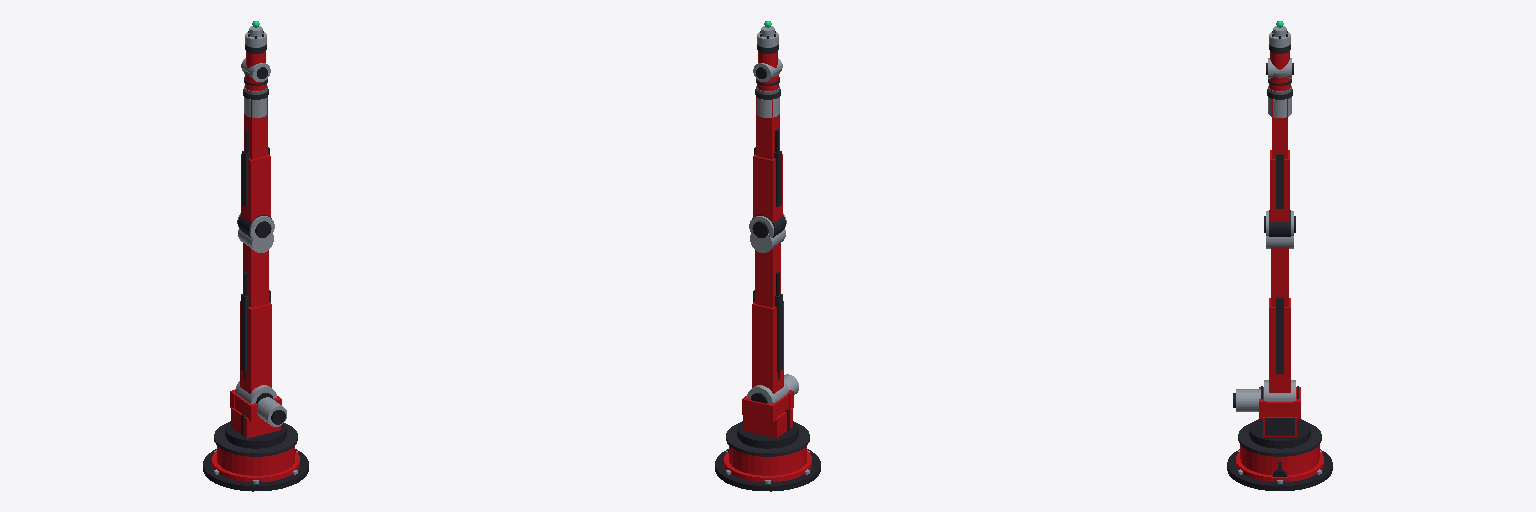
URDF robot description (abb_irb1200):
<?xml version="1.0" encoding="utf-8"?>
<robot name="abb_irb1200">
  <!-- ABB IRB 1200 — procedurally generated by orolp.robot_library.urdf_builder (payload 7 kg, reach 1200 mm, 6 DOF, repeatability ±0.02 mm). Appearance: 60 primitives in 'industrial' style (primary/accent/metal/dark 4-role palette). No vendor CAD assets. Parameters verified=False. -->
  <link name="base_link">
    <visual>
      <origin xyz="0 0 0.00864" rpy="0 0 0"/>
      <geometry>
        <cylinder radius="0.155501" length="0.01728"/>
      </geometry>
      <material name="base_link_mat_0">
        <color rgba="0.17 0.17 0.204 1"/>
      </material>
    </visual>
    <visual>
      <origin xyz="0 0 0.02484" rpy="0 0 0"/>
      <geometry>
        <cylinder radius="0.129971" length="0.01512"/>
      </geometry>
      <material name="base_link_mat_1">
        <color rgba="0.8 0.11 0.14 1"/>
      </material>
    </visual>
    <visual>
      <origin xyz="0 0 0.06588" rpy="0 0 0"/>
      <geometry>
        <cylinder radius="0.116046" length="0.06696"/>
      </geometry>
      <material name="base_link_mat_2">
        <color rgba="0.8 0.11 0.14 1"/>
      </material>
    </visual>
    <visual>
      <origin xyz="0 0 0.1026" rpy="0 0 0"/>
      <geometry>
        <cylinder radius="0.123008" length="0.0108"/>
      </geometry>
      <material name="base_link_mat_3">
        <color rgba="0.2 0.2 0.24 1"/>
      </material>
    </visual>
    <visual>
      <origin xyz="0.104441 0 0.06696" rpy="0 0 0"/>
      <geometry>
        <box size="0.060344 0.013925 0.02808"/>
      </geometry>
      <material name="base_link_mat_4">
        <color rgba="0.2 0.2 0.24 1"/>
      </material>
    </visual>
    <visual>
      <origin xyz="0.106762 0 0.0324" rpy="0 1.570796 0"/>
      <geometry>
        <cylinder radius="0.019728" length="0.034814"/>
      </geometry>
      <material name="base_link_mat_5">
        <color rgba="0.17 0.17 0.204 1"/>
      </material>
    </visual>
    <visual>
      <origin xyz="0.132292 0 0.01404" rpy="0 0 0"/>
      <geometry>
        <cylinder radius="0.008703" length="0.02376"/>
      </geometry>
      <material name="base_link_mat_6">
        <color rgba="0.6 0.63 0.67 1"/>
      </material>
    </visual>
    <visual>
      <origin xyz="0.066146 0.114568 0.01404" rpy="0 0 0"/>
      <geometry>
        <cylinder radius="0.008703" length="0.02376"/>
      </geometry>
      <material name="base_link_mat_7">
        <color rgba="0.6 0.63 0.67 1"/>
      </material>
    </visual>
    <visual>
      <origin xyz="-0.066146 0.114568 0.01404" rpy="0 0 0"/>
      <geometry>
        <cylinder radius="0.008703" length="0.02376"/>
      </geometry>
      <material name="base_link_mat_8">
        <color rgba="0.6 0.63 0.67 1"/>
      </material>
    </visual>
    <visual>
      <origin xyz="-0.132292 0 0.01404" rpy="0 0 0"/>
      <geometry>
        <cylinder radius="0.008703" length="0.02376"/>
      </geometry>
      <material name="base_link_mat_9">
        <color rgba="0.6 0.63 0.67 1"/>
      </material>
    </visual>
    <visual>
      <origin xyz="-0.066146 -0.114568 0.01404" rpy="0 0 0"/>
      <geometry>
        <cylinder radius="0.008703" length="0.02376"/>
      </geometry>
      <material name="base_link_mat_10">
        <color rgba="0.6 0.63 0.67 1"/>
      </material>
    </visual>
    <visual>
      <origin xyz="0.066146 -0.114568 0.01404" rpy="0 0 0"/>
      <geometry>
        <cylinder radius="0.008703" length="0.02376"/>
      </geometry>
      <material name="base_link_mat_11">
        <color rgba="0.6 0.63 0.67 1"/>
      </material>
    </visual>
    <collision>
      <origin xyz="0 0 0.054" rpy="0 0 0"/>
      <geometry>
        <cylinder radius="0.116046" length="0.108"/>
      </geometry>
    </collision>
  </link>
  <joint name="joint_1" type="revolute">
    <parent link="base_link"/>
    <child link="link_1"/>
    <origin xyz="0 0 0.108" rpy="0 0 0"/>
    <axis xyz="0 0 1"/>
    <limit lower="-3.141593" upper="3.141593" effort="82" velocity="4.363323"/>
  </joint>
  <link name="link_1">
    <visual>
      <origin xyz="0 0 0.011979" rpy="0 0 0"/>
      <geometry>
        <cylinder radius="0.089842" length="0.023958"/>
      </geometry>
      <material name="link_1_mat_0">
        <color rgba="0.17 0.17 0.204 1"/>
      </material>
    </visual>
    <visual>
      <origin xyz="0 0 0.054318" rpy="0 0 0"/>
      <geometry>
        <box size="0.1138 0.097329 0.06072"/>
      </geometry>
      <material name="link_1_mat_1">
        <color rgba="0.8 0.11 0.14 1"/>
      </material>
    </visual>
    <visual>
      <origin xyz="0 0 0.107118" rpy="0 0 0"/>
      <geometry>
        <box size="0.100323 0.083852 0.04488"/>
      </geometry>
      <material name="link_1_mat_2">
        <color rgba="0.8 0.11 0.14 1"/>
      </material>
    </visual>
    <visual>
      <origin xyz="0 0.049413 0.1056" rpy="0 0 0"/>
      <geometry>
        <box size="0.104815 0.025455 0.0528"/>
      </geometry>
      <material name="link_1_mat_3">
        <color rgba="0.8 0.11 0.14 1"/>
      </material>
    </visual>
    <visual>
      <origin xyz="0 -0.049413 0.1056" rpy="0 0 0"/>
      <geometry>
        <box size="0.104815 0.025455 0.0528"/>
      </geometry>
      <material name="link_1_mat_4">
        <color rgba="0.8 0.11 0.14 1"/>
      </material>
    </visual>
    <visual>
      <origin xyz="0 -0.088344 0.11352" rpy="1.570796 0 0"/>
      <geometry>
        <cylinder radius="0.032942" length="0.078612"/>
      </geometry>
      <material name="link_1_mat_5">
        <color rgba="0.6 0.63 0.67 1"/>
      </material>
    </visual>
    <visual>
      <origin xyz="0 -0.131768 0.11352" rpy="1.570796 0 0"/>
      <geometry>
        <cylinder radius="0.02246" length="0.011979"/>
      </geometry>
      <material name="link_1_mat_6">
        <color rgba="0.17 0.17 0.204 1"/>
      </material>
    </visual>
    <visual>
      <origin xyz="-0.052408 -0.020963 0.05544" rpy="0 0 0"/>
      <geometry>
        <cylinder radius="0.008235" length="0.066"/>
      </geometry>
      <material name="link_1_mat_7">
        <color rgba="0.17 0.17 0.204 1"/>
      </material>
    </visual>
    <visual>
      <origin xyz="0.053905 0 0.05544" rpy="0 0 0"/>
      <geometry>
        <box size="0.007487 0.086847 0.05808"/>
      </geometry>
      <material name="link_1_mat_8">
        <color rgba="0.2 0.2 0.24 1"/>
      </material>
    </visual>
    <collision>
      <origin xyz="0 0 0.066" rpy="0 0 0"/>
      <geometry>
        <cylinder radius="0.089842" length="0.132"/>
      </geometry>
    </collision>
  </link>
  <joint name="joint_2" type="revolute">
    <parent link="link_1"/>
    <child link="link_2"/>
    <origin xyz="0 0 0.132" rpy="0 0 0"/>
    <axis xyz="0 1 0"/>
    <limit lower="-1.919862" upper="1.919862" effort="82" velocity="4.363323"/>
  </joint>
  <link name="link_2">
    <visual>
      <origin xyz="0 0 0.14904" rpy="0 0 0"/>
      <geometry>
        <box size="0.073371 0.062889 0.29808"/>
      </geometry>
      <material name="link_2_mat_0">
        <color rgba="0.8 0.11 0.14 1"/>
      </material>
    </visual>
    <visual>
      <origin xyz="0 0 0.414" rpy="0 0 0"/>
      <geometry>
        <box size="0.059894 0.05091 0.276"/>
      </geometry>
      <material name="link_2_mat_1">
        <color rgba="0.8 0.11 0.14 1"/>
      </material>
    </visual>
    <visual>
      <origin xyz="0 0 0.20976" rpy="0 0 0"/>
      <geometry>
        <box size="0.086847 0.02246 0.24288"/>
      </geometry>
      <material name="link_2_mat_2">
        <color rgba="0.2 0.2 0.24 1"/>
      </material>
    </visual>
    <visual>
      <origin xyz="0 0 0" rpy="1.570796 0 0"/>
      <geometry>
        <cylinder radius="0.043424" length="0.095831"/>
      </geometry>
      <material name="link_2_mat_3">
        <color rgba="0.6 0.63 0.67 1"/>
      </material>
    </visual>
    <visual>
      <origin xyz="0 0.052408 0" rpy="1.570796 0 0"/>
      <geometry>
        <cylinder radius="0.026953" length="0.007487"/>
      </geometry>
      <material name="link_2_mat_4">
        <color rgba="0.17 0.17 0.204 1"/>
      </material>
    </visual>
    <visual>
      <origin xyz="0 -0.052408 0" rpy="1.570796 0 0"/>
      <geometry>
        <cylinder radius="0.026953" length="0.007487"/>
      </geometry>
      <material name="link_2_mat_5">
        <color rgba="0.17 0.17 0.204 1"/>
      </material>
    </visual>
    <visual>
      <origin xyz="0 0 -0.039744" rpy="0 0 0"/>
      <geometry>
        <box size="0.080858 0.067381 0.0828"/>
      </geometry>
      <material name="link_2_mat_6">
        <color rgba="0.17 0.17 0.204 1"/>
      </material>
    </visual>
    <visual>
      <origin xyz="0 0 -0.083904" rpy="0 0 0"/>
      <geometry>
        <cylinder radius="0.043424" length="0.02208"/>
      </geometry>
      <material name="link_2_mat_7">
        <color rgba="0.17 0.17 0.204 1"/>
      </material>
    </visual>
    <visual>
      <origin xyz="0 0 0.51336" rpy="1.570796 0 0"/>
      <geometry>
        <cylinder radius="0.037434" length="0.082355"/>
      </geometry>
      <material name="link_2_mat_8">
        <color rgba="0.6 0.63 0.67 1"/>
      </material>
    </visual>
    <visual>
      <origin xyz="0 0 0.552" rpy="1.570796 0 0"/>
      <geometry>
        <cylinder radius="0.041926" length="0.064387"/>
      </geometry>
      <material name="link_2_mat_9">
        <color rgba="0.2 0.2 0.24 1"/>
      </material>
    </visual>
    <visual>
      <origin xyz="-0.034439 0 0.23184" rpy="0 0 0"/>
      <geometry>
        <cylinder radius="0.006738" length="0.34224"/>
      </geometry>
      <material name="link_2_mat_10">
        <color rgba="0.17 0.17 0.204 1"/>
      </material>
    </visual>
    <collision>
      <origin xyz="0 0 0.276" rpy="0 0 0"/>
      <geometry>
        <box size="0.074868 0.061392 0.552"/>
      </geometry>
    </collision>
  </link>
  <joint name="joint_3" type="revolute">
    <parent link="link_2"/>
    <child link="link_3"/>
    <origin xyz="0 0 0.552" rpy="0 0 0"/>
    <axis xyz="0 1 0"/>
    <limit lower="-3.926991" upper="1.48353" effort="82" velocity="4.363323"/>
  </joint>
  <link name="link_3">
    <visual>
      <origin xyz="0 0 0.11232" rpy="0 0 0"/>
      <geometry>
        <box size="0.068879 0.058397 0.22464"/>
      </geometry>
      <material name="link_3_mat_0">
        <color rgba="0.8 0.11 0.14 1"/>
      </material>
    </visual>
    <visual>
      <origin xyz="0 0 0.31968" rpy="0 0 0"/>
      <geometry>
        <box size="0.055402 0.046418 0.22464"/>
      </geometry>
      <material name="link_3_mat_1">
        <color rgba="0.8 0.11 0.14 1"/>
      </material>
    </visual>
    <visual>
      <origin xyz="0 0 0" rpy="1.570796 0 0"/>
      <geometry>
        <cylinder radius="0.040429" length="0.07936"/>
      </geometry>
      <material name="link_3_mat_2">
        <color rgba="0.6 0.63 0.67 1"/>
      </material>
    </visual>
    <visual>
      <origin xyz="0 0.043424 0" rpy="1.570796 0 0"/>
      <geometry>
        <cylinder radius="0.025455" length="0.007487"/>
      </geometry>
      <material name="link_3_mat_3">
        <color rgba="0.17 0.17 0.204 1"/>
      </material>
    </visual>
    <visual>
      <origin xyz="0 -0.043424 0" rpy="1.570796 0 0"/>
      <geometry>
        <cylinder radius="0.025455" length="0.007487"/>
      </geometry>
      <material name="link_3_mat_4">
        <color rgba="0.17 0.17 0.204 1"/>
      </material>
    </visual>
    <visual>
      <origin xyz="0 0 0.15552" rpy="0 0 0"/>
      <geometry>
        <box size="0.080858 0.020963 0.1728"/>
      </geometry>
      <material name="link_3_mat_5">
        <color rgba="0.2 0.2 0.24 1"/>
      </material>
    </visual>
    <visual>
      <origin xyz="0 0 0.3888" rpy="0 0 0"/>
      <geometry>
        <cylinder radius="0.034439" length="0.058397"/>
      </geometry>
      <material name="link_3_mat_6">
        <color rgba="0.6 0.63 0.67 1"/>
      </material>
    </visual>
    <visual>
      <origin xyz="0 0 0.42768" rpy="0 0 0"/>
      <geometry>
        <cylinder radius="0.037434" length="0.014974"/>
      </geometry>
      <material name="link_3_mat_7">
        <color rgba="0.2 0.2 0.24 1"/>
      </material>
    </visual>
    <visual>
      <origin xyz="-0.031445 0 0.19008" rpy="0 0 0"/>
      <geometry>
        <cylinder radius="0.005989" length="0.24192"/>
      </geometry>
      <material name="link_3_mat_8">
        <color rgba="0.17 0.17 0.204 1"/>
      </material>
    </visual>
    <collision>
      <origin xyz="0 0 0.216" rpy="0 0 0"/>
      <geometry>
        <box size="0.070376 0.057708 0.432"/>
      </geometry>
    </collision>
  </link>
  <joint name="joint_4" type="revolute">
    <parent link="link_3"/>
    <child link="link_4"/>
    <origin xyz="0 0 0.432" rpy="0 0 0"/>
    <axis xyz="0 0 1"/>
    <limit lower="-3.490659" upper="3.490659" effort="82" velocity="5.585054"/>
  </joint>
  <link name="link_4">
    <visual>
      <origin xyz="0 0 0.036" rpy="0 0 0"/>
      <geometry>
        <cylinder radius="0.031445" length="0.06768"/>
      </geometry>
      <material name="link_4_mat_0">
        <color rgba="0.8 0.11 0.14 1"/>
      </material>
    </visual>
    <visual>
      <origin xyz="0 0 0.0072" rpy="0 0 0"/>
      <geometry>
        <cylinder radius="0.034439" length="0.01152"/>
      </geometry>
      <material name="link_4_mat_1">
        <color rgba="0.432 0.4536 0.4824 1"/>
      </material>
    </visual>
    <visual>
      <origin xyz="0 0 0.0648" rpy="0 0 0"/>
      <geometry>
        <cylinder radius="0.034439" length="0.01152"/>
      </geometry>
      <material name="link_4_mat_2">
        <color rgba="0.432 0.4536 0.4824 1"/>
      </material>
    </visual>
    <visual>
      <origin xyz="0 0 0.036" rpy="0 0 0"/>
      <geometry>
        <cylinder radius="0.035937" length="0.0072"/>
      </geometry>
      <material name="link_4_mat_3">
        <color rgba="0.2 0.2 0.24 1"/>
      </material>
    </visual>
    <collision>
      <origin xyz="0 0 0.036" rpy="0 0 0"/>
      <geometry>
        <cylinder radius="0.032942" length="0.072"/>
      </geometry>
    </collision>
  </link>
  <joint name="joint_5" type="revolute">
    <parent link="link_4"/>
    <child link="link_5"/>
    <origin xyz="0 0 0.072" rpy="0 0 0"/>
    <axis xyz="0 1 0"/>
    <limit lower="-2.094395" upper="2.094395" effort="82" velocity="5.585054"/>
  </joint>
  <link name="link_5">
    <visual>
      <origin xyz="0 0 0" rpy="1.570796 0 0"/>
      <geometry>
        <cylinder radius="0.029947" length="0.068879"/>
      </geometry>
      <material name="link_5_mat_0">
        <color rgba="0.6 0.63 0.67 1"/>
      </material>
    </visual>
    <visual>
      <origin xyz="0 0 0.0324" rpy="0 0 0"/>
      <geometry>
        <cylinder radius="0.02845" length="0.06192"/>
      </geometry>
      <material name="link_5_mat_1">
        <color rgba="0.8 0.11 0.14 1"/>
      </material>
    </visual>
    <visual>
      <origin xyz="0 0 0.06768" rpy="0 0 0"/>
      <geometry>
        <cylinder radius="0.031445" length="0.01152"/>
      </geometry>
      <material name="link_5_mat_2">
        <color rgba="0.2 0.2 0.24 1"/>
      </material>
    </visual>
    <visual>
      <origin xyz="0 0.037434 0" rpy="1.570796 0 0"/>
      <geometry>
        <cylinder radius="0.017968" length="0.007487"/>
      </geometry>
      <material name="link_5_mat_3">
        <color rgba="0.17 0.17 0.204 1"/>
      </material>
    </visual>
    <visual>
      <origin xyz="0 -0.037434 0" rpy="1.570796 0 0"/>
      <geometry>
        <cylinder radius="0.017968" length="0.007487"/>
      </geometry>
      <material name="link_5_mat_4">
        <color rgba="0.17 0.17 0.204 1"/>
      </material>
    </visual>
    <collision>
      <origin xyz="0 0 0.036" rpy="0 0 0"/>
      <geometry>
        <box size="0.063638 0.052183 0.072"/>
      </geometry>
    </collision>
  </link>
  <joint name="joint_6" type="revolute">
    <parent link="link_5"/>
    <child link="tool0"/>
    <origin xyz="0 0 0.072" rpy="0 0 0"/>
    <axis xyz="0 0 1"/>
    <limit lower="-6.981317" upper="6.981317" effort="82" velocity="7.330383"/>
  </joint>
  <link name="tool0">
    <visual>
      <origin xyz="0 0 0.01872" rpy="0 0 0"/>
      <geometry>
        <cylinder radius="0.031445" length="0.03744"/>
      </geometry>
      <material name="tool0_mat_0">
        <color rgba="0.6 0.63 0.67 1"/>
      </material>
    </visual>
    <visual>
      <origin xyz="0 0 0.04824" rpy="0 0 0"/>
      <geometry>
        <cylinder radius="0.019496" length="0.0216"/>
      </geometry>
      <material name="tool0_mat_1">
        <color rgba="0.6 0.63 0.67 1"/>
      </material>
    </visual>
    <visual>
      <origin xyz="0 0 0.00504" rpy="0 0 0"/>
      <geometry>
        <cylinder radius="0.033331" length="0.01008"/>
      </geometry>
      <material name="tool0_mat_2">
        <color rgba="0.2 0.2 0.24 1"/>
      </material>
    </visual>
    <visual>
      <origin xyz="0.024527 0 0.036" rpy="0 0 0"/>
      <geometry>
        <cylinder radius="0.00283" length="0.01584"/>
      </geometry>
      <material name="tool0_mat_3">
        <color rgba="0.17 0.17 0.204 1"/>
      </material>
    </visual>
    <visual>
      <origin xyz="0.012263 0.021241 0.036" rpy="0 0 0"/>
      <geometry>
        <cylinder radius="0.00283" length="0.01584"/>
      </geometry>
      <material name="tool0_mat_4">
        <color rgba="0.17 0.17 0.204 1"/>
      </material>
    </visual>
    <visual>
      <origin xyz="-0.012263 0.021241 0.036" rpy="0 0 0"/>
      <geometry>
        <cylinder radius="0.00283" length="0.01584"/>
      </geometry>
      <material name="tool0_mat_5">
        <color rgba="0.17 0.17 0.204 1"/>
      </material>
    </visual>
    <visual>
      <origin xyz="-0.024527 0 0.036" rpy="0 0 0"/>
      <geometry>
        <cylinder radius="0.00283" length="0.01584"/>
      </geometry>
      <material name="tool0_mat_6">
        <color rgba="0.17 0.17 0.204 1"/>
      </material>
    </visual>
    <visual>
      <origin xyz="-0.012263 -0.021241 0.036" rpy="0 0 0"/>
      <geometry>
        <cylinder radius="0.00283" length="0.01584"/>
      </geometry>
      <material name="tool0_mat_7">
        <color rgba="0.17 0.17 0.204 1"/>
      </material>
    </visual>
    <visual>
      <origin xyz="0.012263 -0.021241 0.036" rpy="0 0 0"/>
      <geometry>
        <cylinder radius="0.00283" length="0.01584"/>
      </geometry>
      <material name="tool0_mat_8">
        <color rgba="0.17 0.17 0.204 1"/>
      </material>
    </visual>
    <collision>
      <origin xyz="0 0 0.036" rpy="0 0 0"/>
      <geometry>
        <cylinder radius="0.031445" length="0.072"/>
      </geometry>
    </collision>
  </link>
  <link name="tcp">
    <visual>
      <origin xyz="0 0 0" rpy="0 0 0"/>
      <geometry>
        <sphere radius="0.010691"/>
      </geometry>
      <material name="tcp_mat">
        <color rgba="0.15 0.85 0.55 1"/>
      </material>
    </visual>
  </link>
  <joint name="tcp_joint" type="fixed">
    <parent link="tool0"/>
    <child link="tcp"/>
    <origin xyz="0 0 0.072" rpy="0 0 0"/>
  </joint>
</robot>

--- What the picture shows (computed from the rendered views, not written in the file) ---
3 views of the same robot in one strip: view 1: azimuth 30°, elevation 25°; view 2: azimuth 150°, elevation 25°; view 3: azimuth 270°, elevation 25° (orthographic).
Model abb_irb1200 with 8 links and 7 joints (6 revolute, 1 fixed), rooted at base_link, posed all joints at 0.
Links seen in each view (by area): view 1: link_2, base_link, link_3, link_1, link_5; view 2: link_2, base_link, link_3, link_1, link_5; view 3: base_link, link_2, link_1, link_3, link_5.
Link boxes in pixels (box(x1,y1,x2,y2)): link_2: box(235, 215, 276, 403); base_link: box(203, 422, 308, 491); link_3: box(237, 89, 274, 237); link_1: box(225, 390, 286, 448); link_5: box(241, 48, 270, 81); link_2: box(747, 215, 788, 403); base_link: box(715, 422, 820, 491); link_3: box(749, 89, 786, 237); link_1: box(737, 374, 798, 448); link_5: box(753, 48, 782, 81); base_link: box(1227, 422, 1332, 490); link_2: box(1261, 210, 1298, 401); link_1: box(1233, 387, 1310, 448); link_3: box(1264, 89, 1295, 235); link_5: box(1266, 48, 1293, 78).
Size in the robot's own frame: 0.311 by 0.311 by 1.45 metres.
Geometry: primitives only (box / cylinder / sphere), no mesh files.
